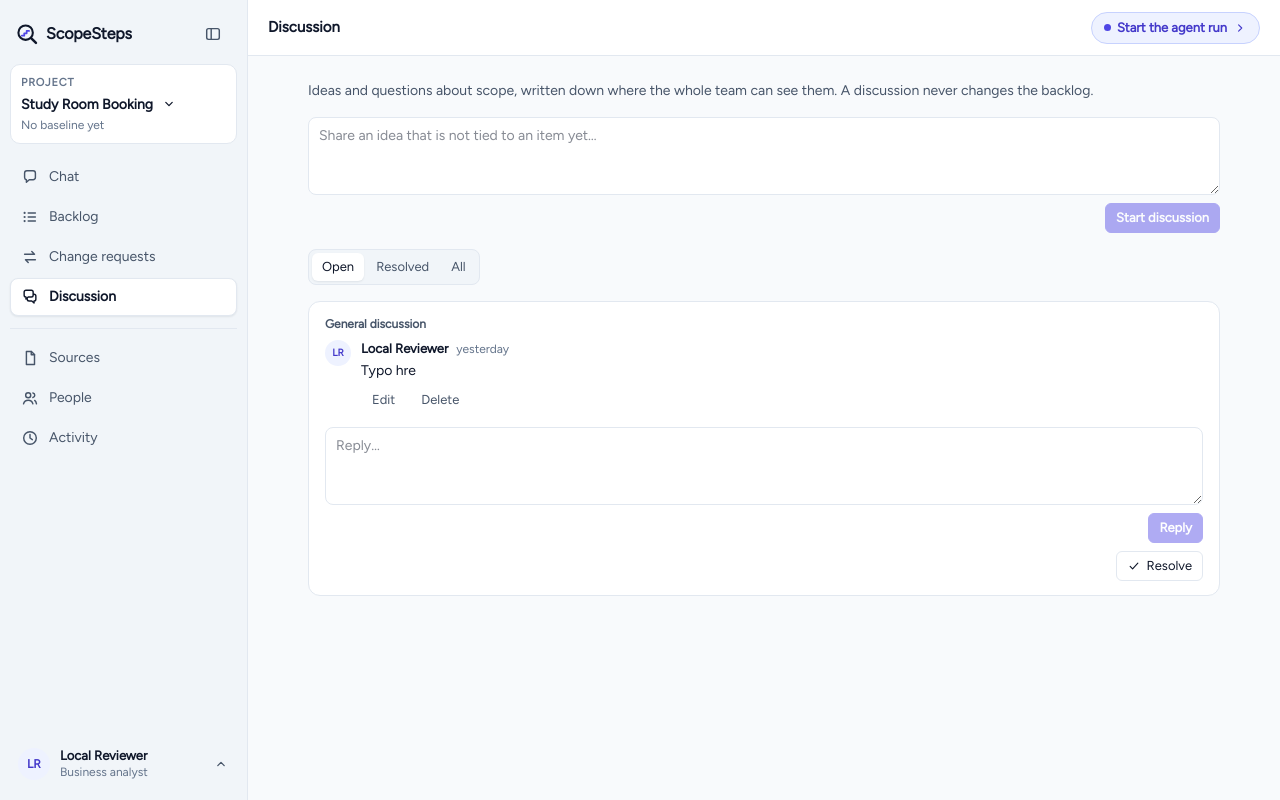
Test: The Discussion page › lets the author edit their comment, which then shows as edited
Click the button "Edit" at x=384, y=400, box [361, 385, 406, 415]
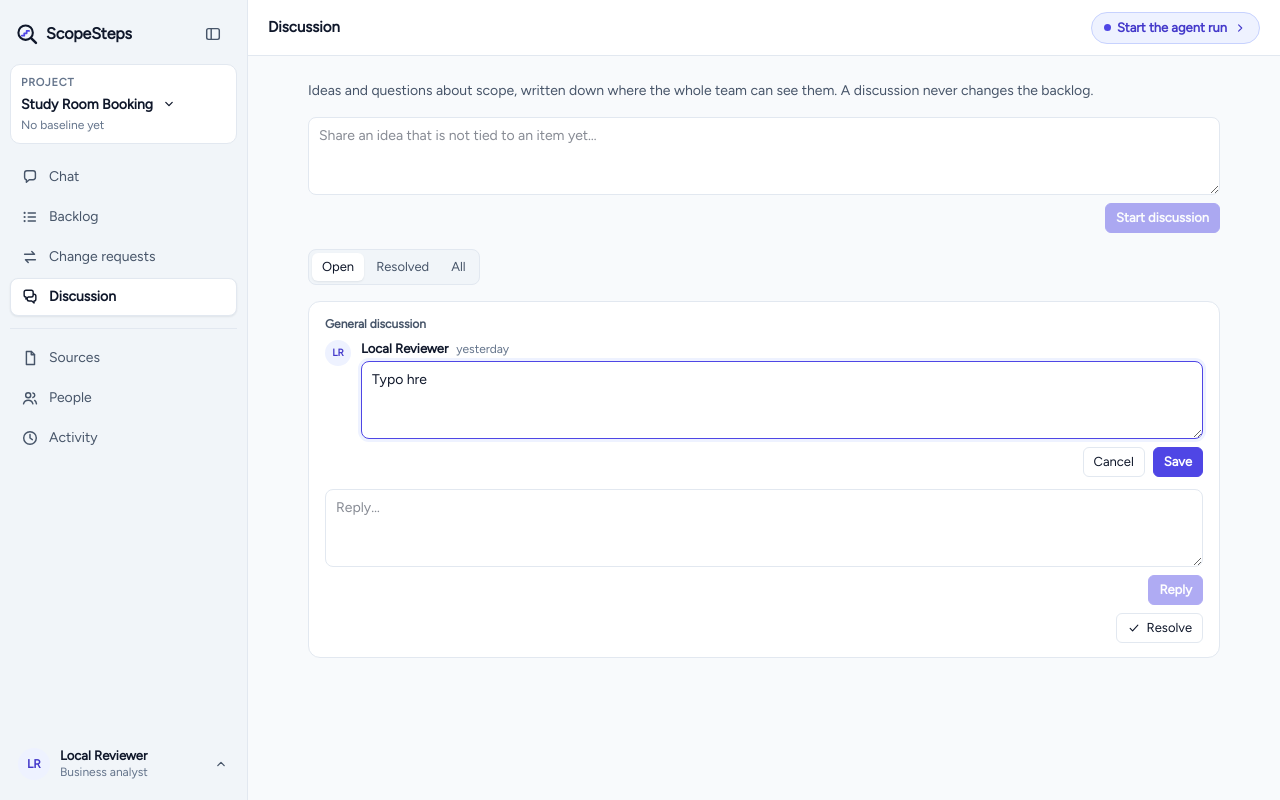
Replace the text in the text box named "Edit comment" with "Typo here" at x=782, y=400, box [361, 361, 1203, 439]
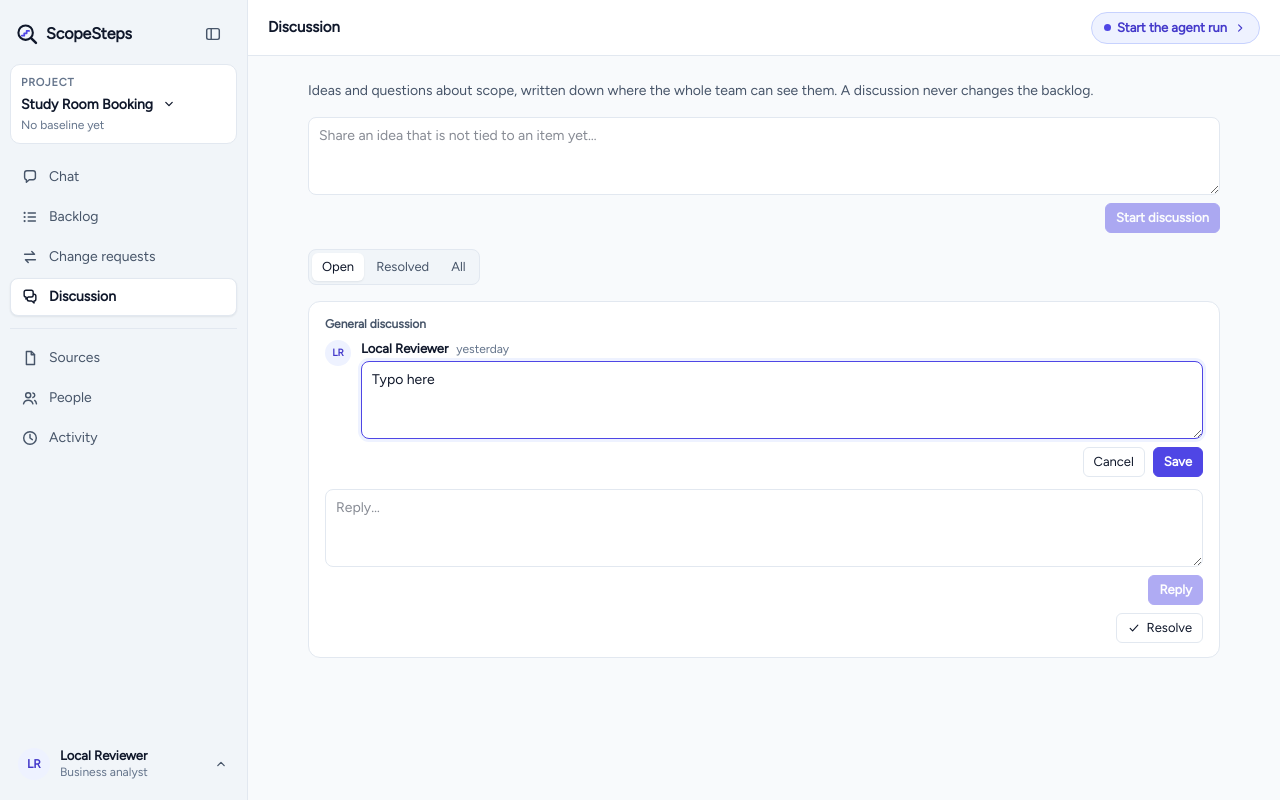
Click the button "Save" at x=1178, y=462, box [1153, 447, 1203, 477]
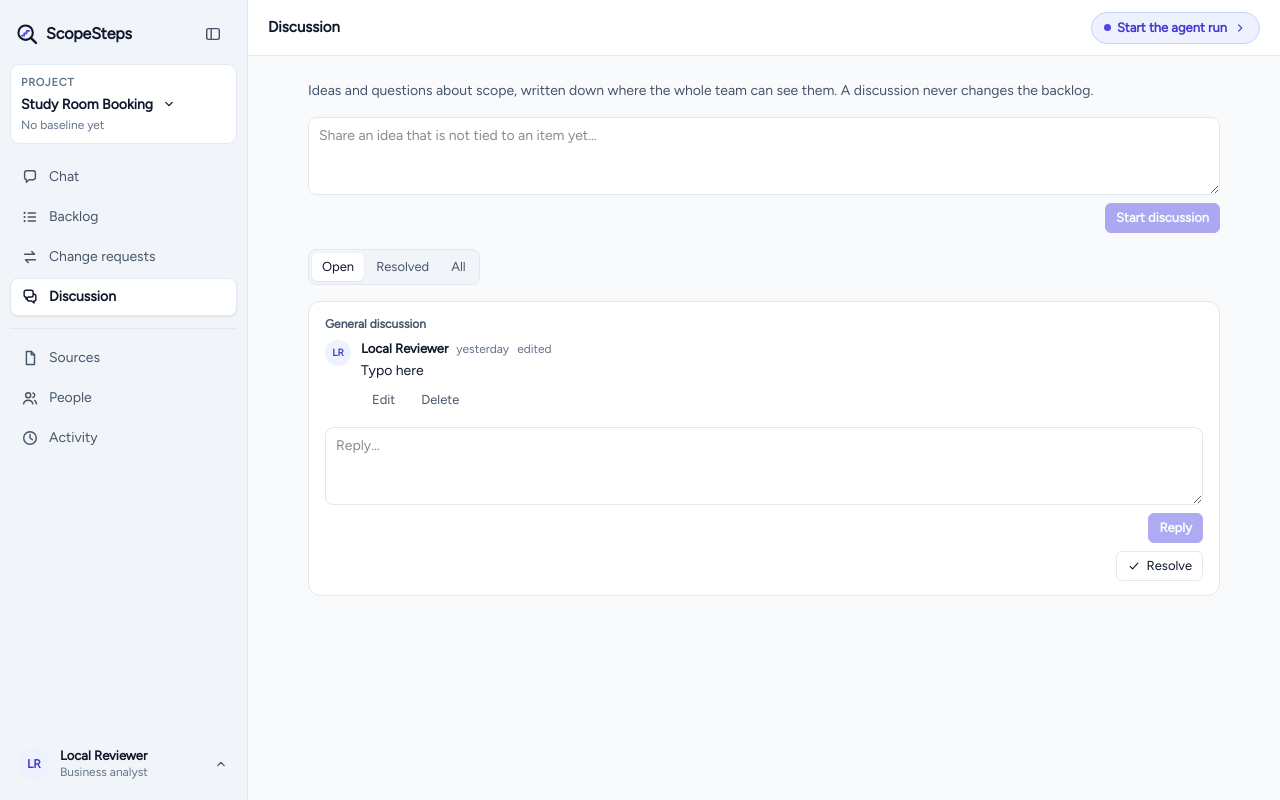
Check: the text "Typo here" is shown, box [361, 362, 424, 379]
Check: the text "edited" is shown, box [517, 341, 552, 357]
